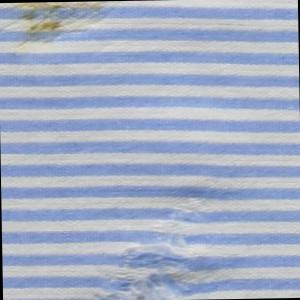Damage: (87, 173, 231, 300)
Oil Stain: (6, 2, 118, 58)
